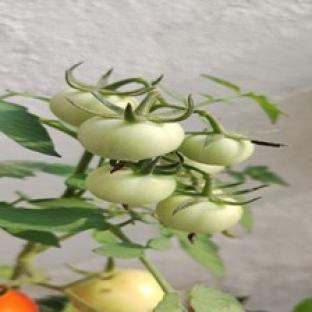Tomato: (78, 117, 183, 161), (70, 269, 164, 311), (85, 166, 176, 206), (156, 195, 242, 233), (51, 88, 114, 126), (180, 134, 253, 165), (0, 287, 38, 311), (184, 158, 224, 174), (292, 297, 311, 311)
